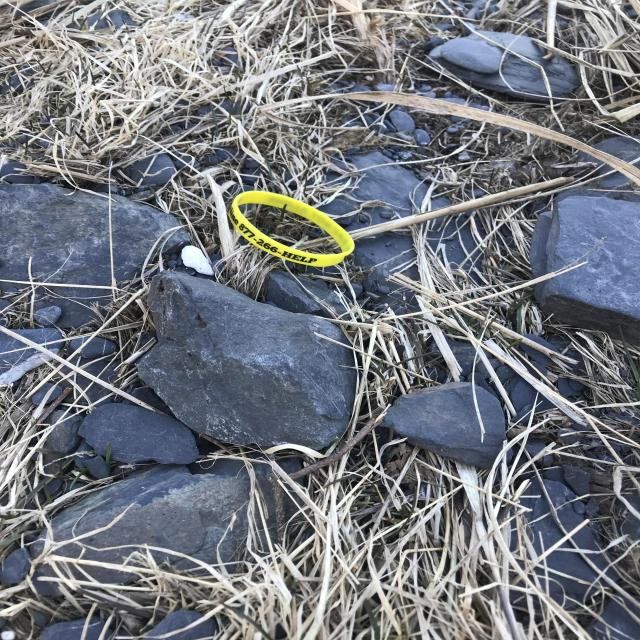litter: (173, 236, 204, 272)
